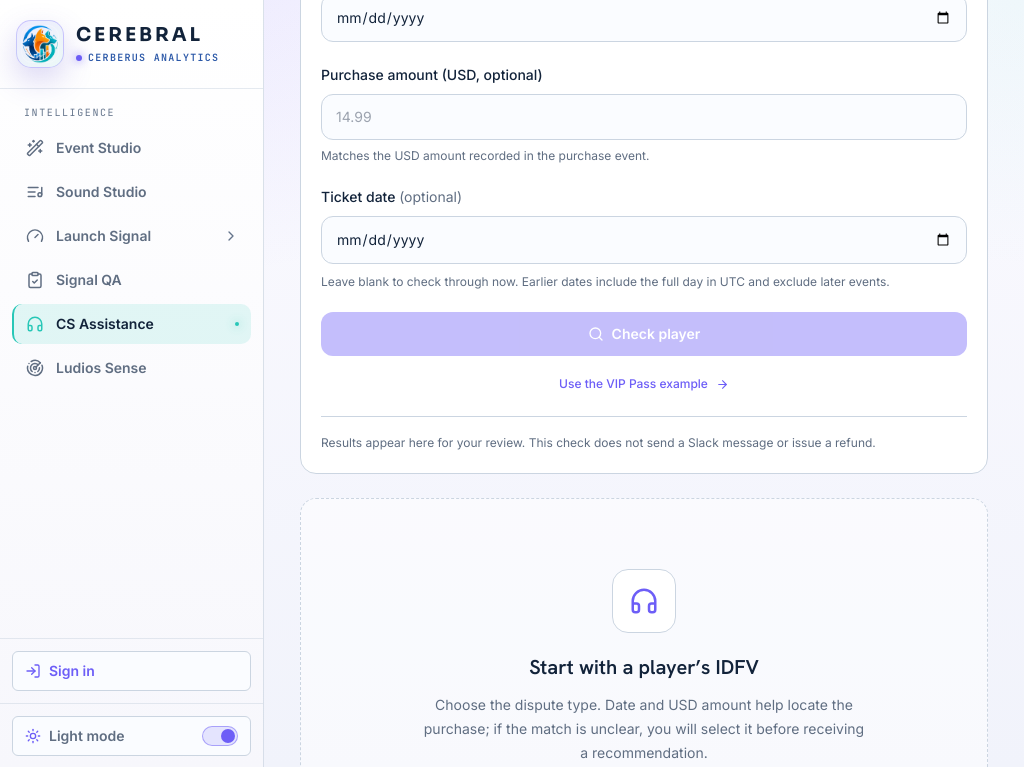
Scenario: CS Assistance page › clears previous results on a new failed check
(page scrolled)
Click the button "Use the VIP Pass example" at (644, 384), box [321,376,967,392]
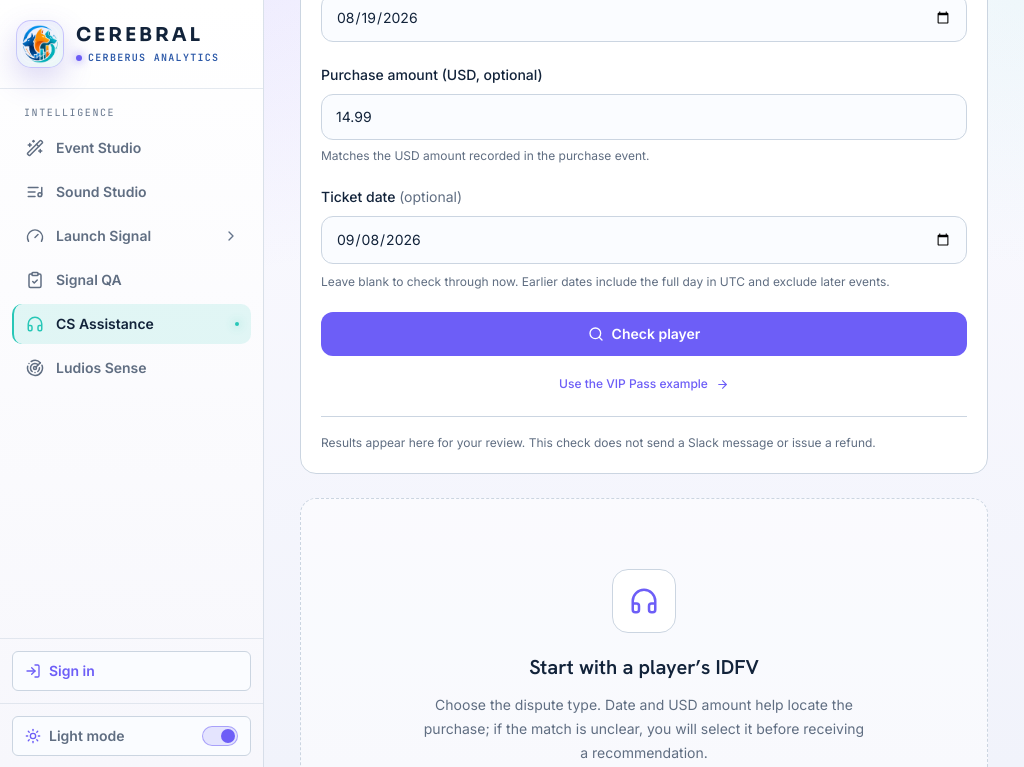
Click the button "Check player" at (644, 334), box [321,312,967,356]
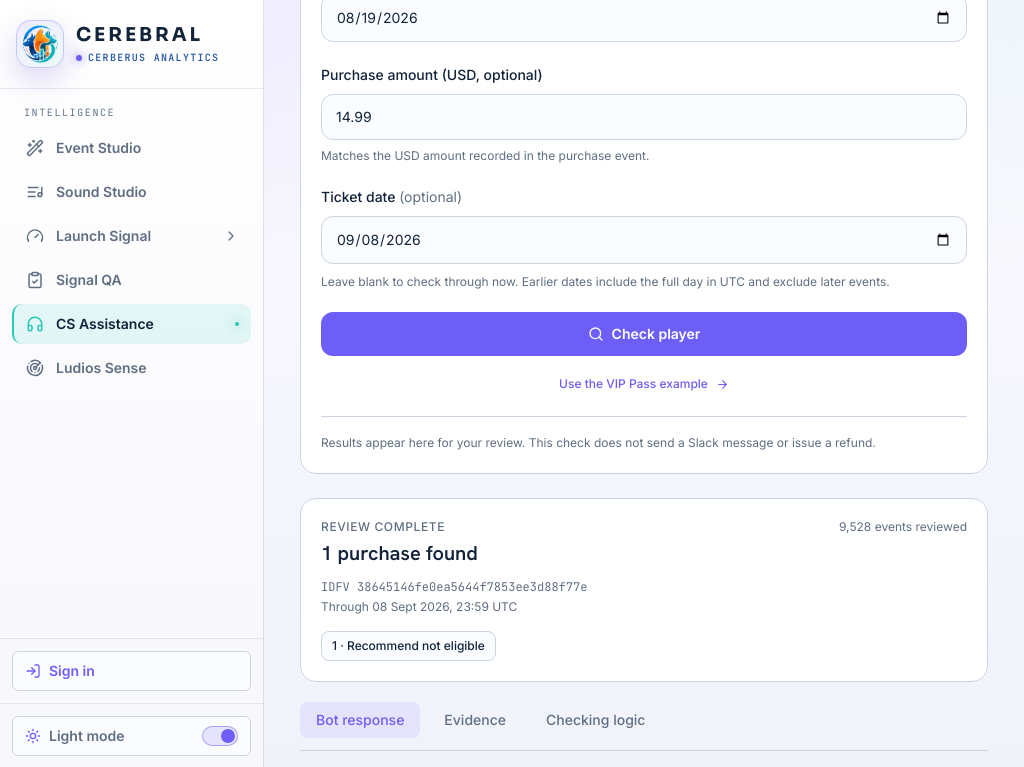
Expected: the heading "1 purchase found" is shown, [321,539,478,567]
Click the button "Check player" at (644, 334), box [321,312,967,356]
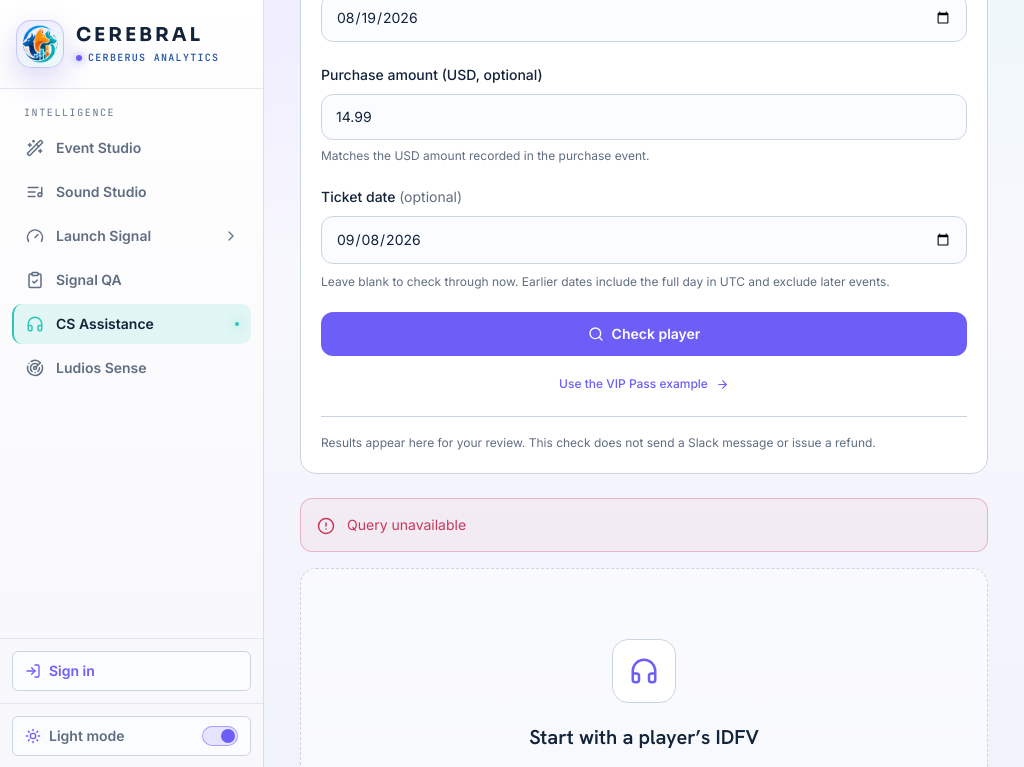
Expected: the message reads "Query unavailable", [347,516,466,533]
Expected: the heading "1 purchase found" is gone
